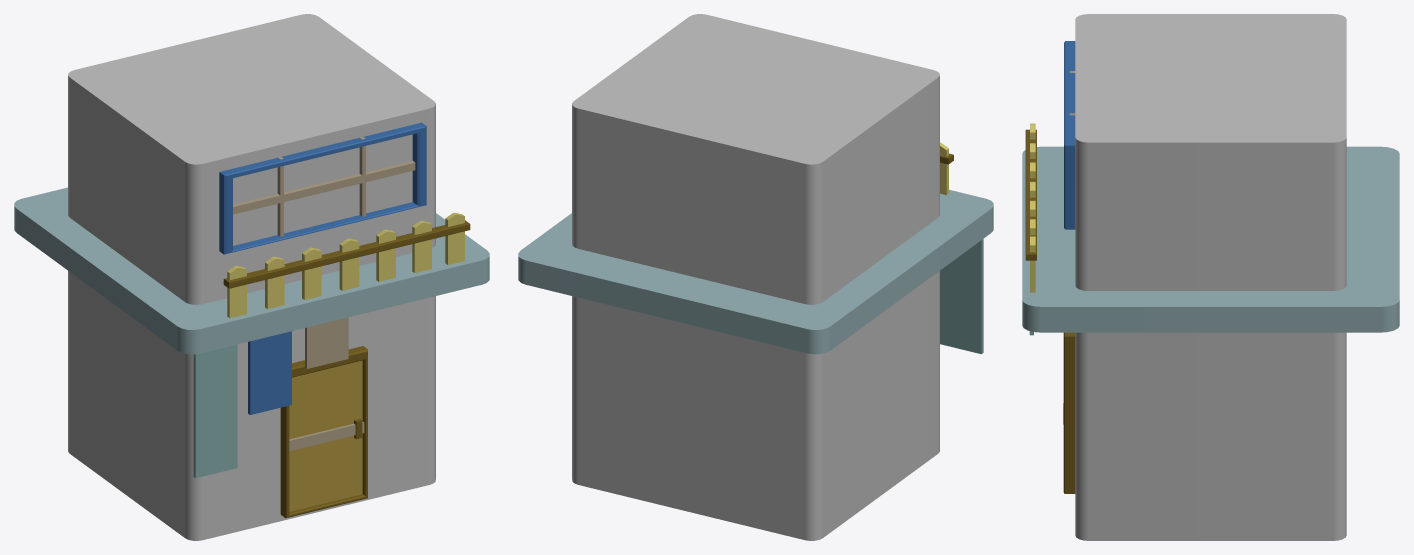
Rendered from SM_house_2-3.fbx.
3 renders of one model, left to right at view 1: azimuth 30°, elevation 25°; view 2: azimuth 150°, elevation 25°; view 3: azimuth 270°, elevation 25°, orthographic. The views are drawn at different scales.
Parts seen in each view (by area): view 1: polySurface264; view 2: polySurface264; view 3: polySurface264.
Part boxes in pixels (x1,y1,x2,y2): polySurface264: [14, 14, 489, 540]; polySurface264: [518, 14, 993, 540]; polySurface264: [1022, 14, 1399, 540].
Size of the model in its own units: 362 by 420 by 360.
